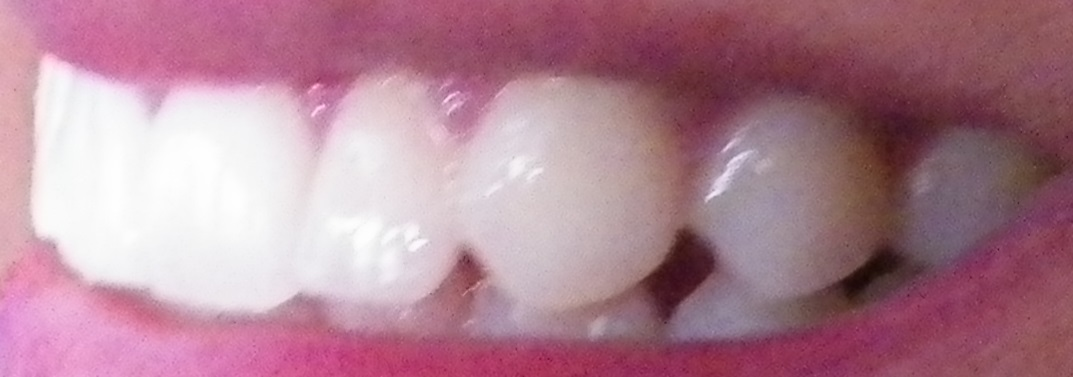boca: (36, 46, 1035, 335)
